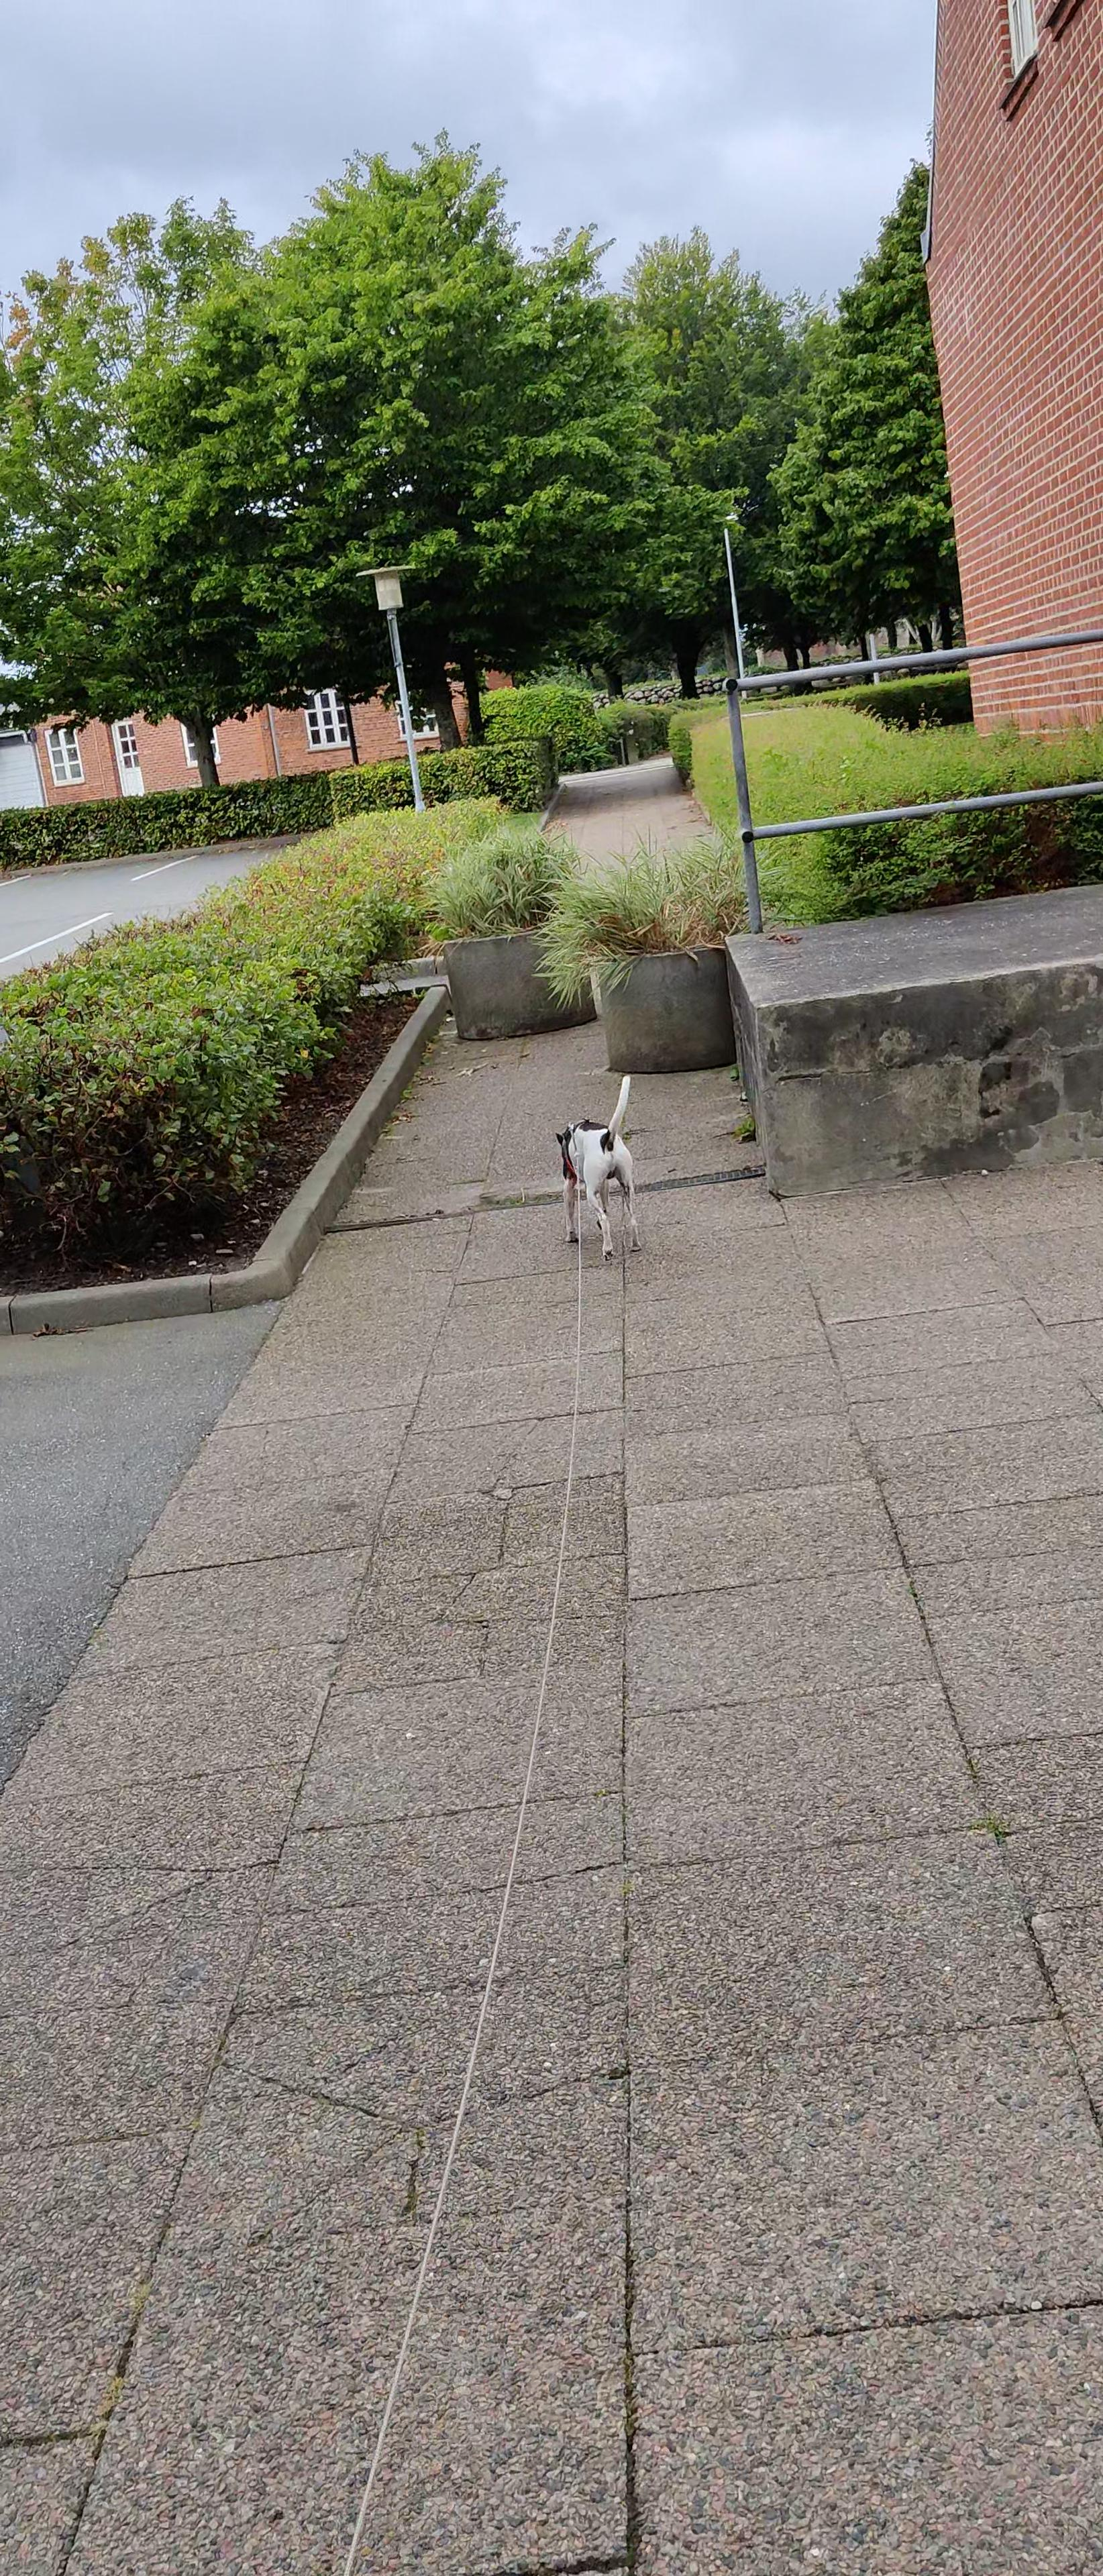Dog: (542, 1065, 649, 1262)
